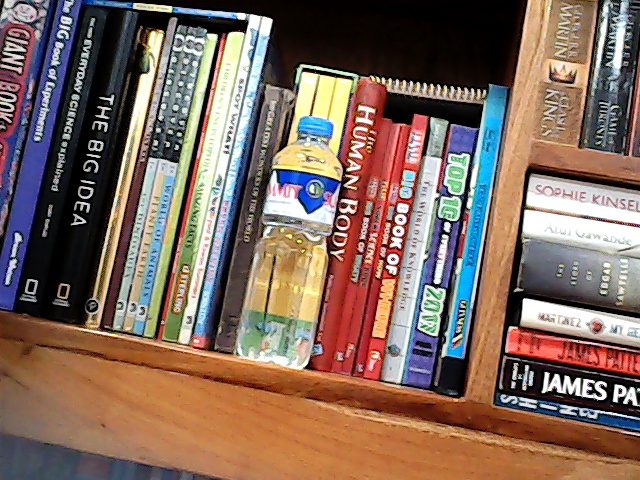Summit Water: (235, 106, 352, 381)
